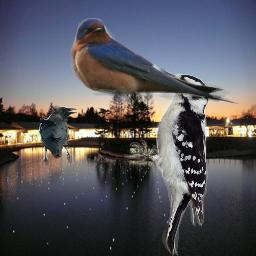Crow: (39, 105, 77, 166)
Swallow: (70, 18, 240, 105)
Woodpecker: (123, 68, 211, 256)
